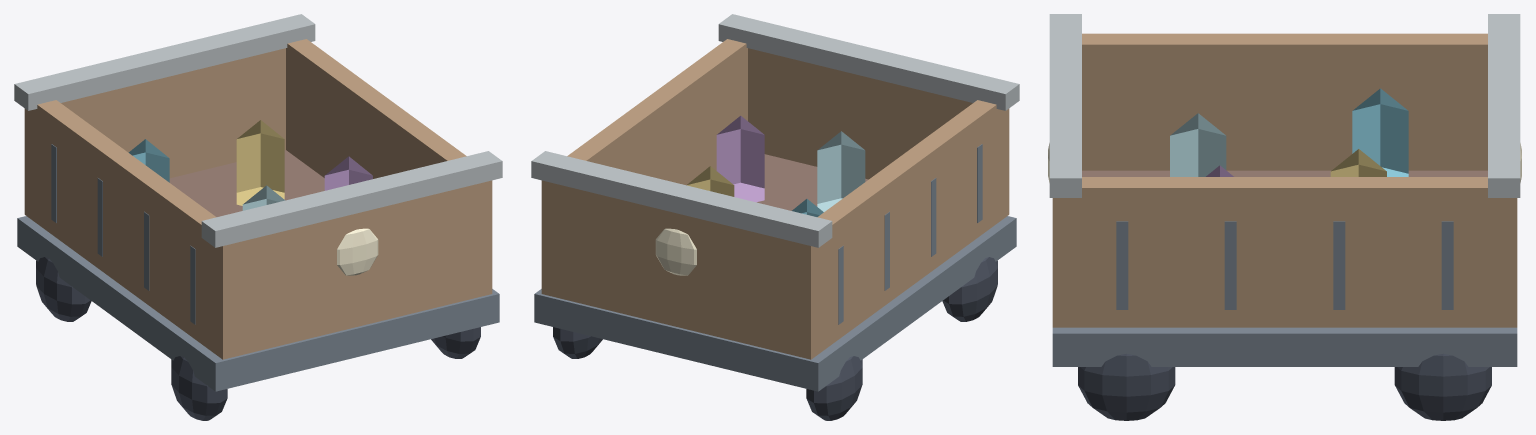
File: vagoneta.glb
The picture shows the model from 3 angles, left to right: view 1: azimuth 30°, elevation 25°; view 2: azimuth 150°, elevation 25°; view 3: azimuth 270°, elevation 25°; orthographic projection. The views are drawn at different scales.
Visible parts, largest first — view 1: vagoneta; view 2: vagoneta; view 3: vagoneta.
Boxes of the visible parts, left/top/right/bottom form: vagoneta: left=14, top=14, right=502, bottom=420; vagoneta: left=531, top=14, right=1019, bottom=420; vagoneta: left=1048, top=14, right=1521, bottom=420.
Size of the model in its own units: 1.83 by 1.28 by 2.18.
